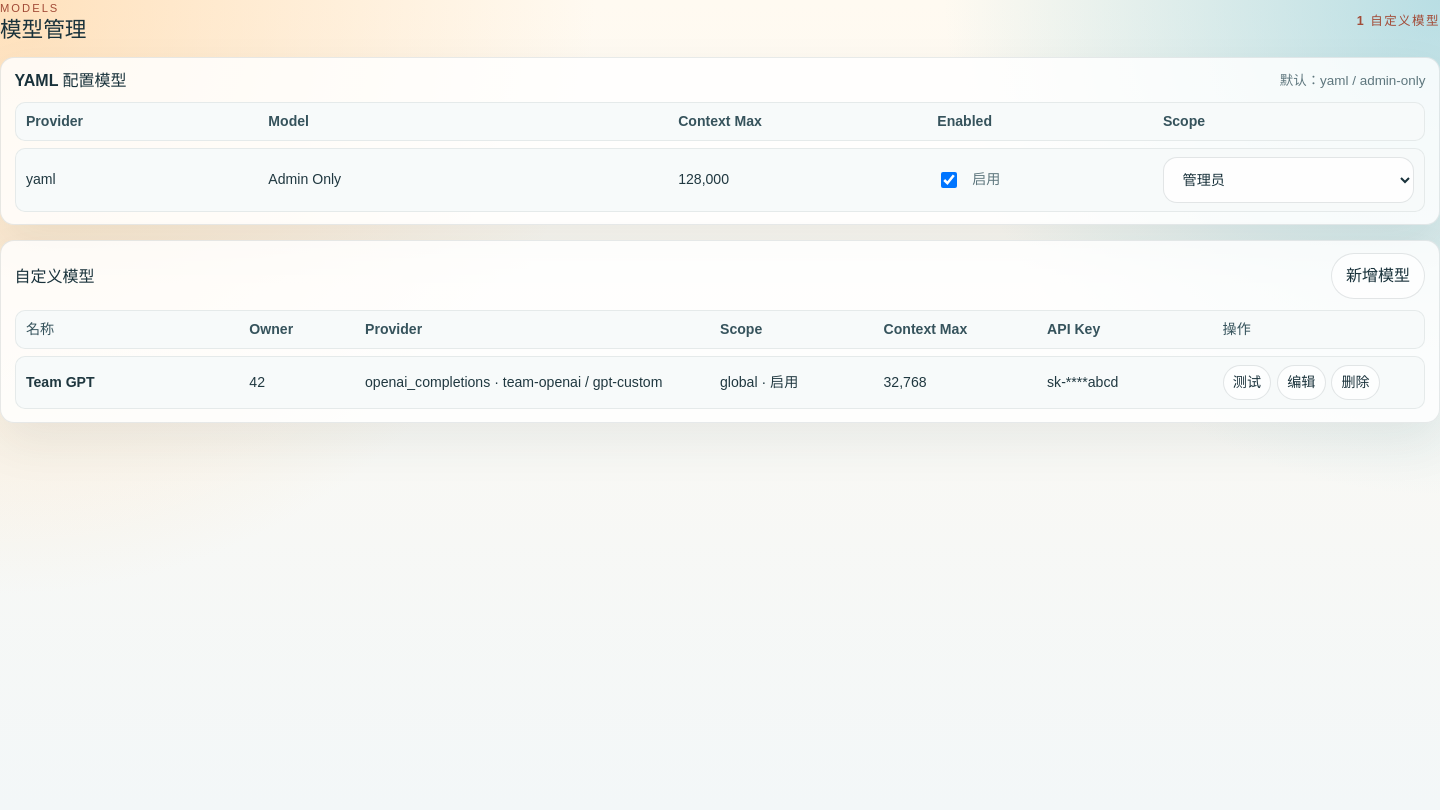
Test: AdminModelsView › rejects invalid owner user id instead of sending owner zero
Click the button "编辑" at (1301, 383), box top-left (1277, 365), bottom-right (1326, 400)
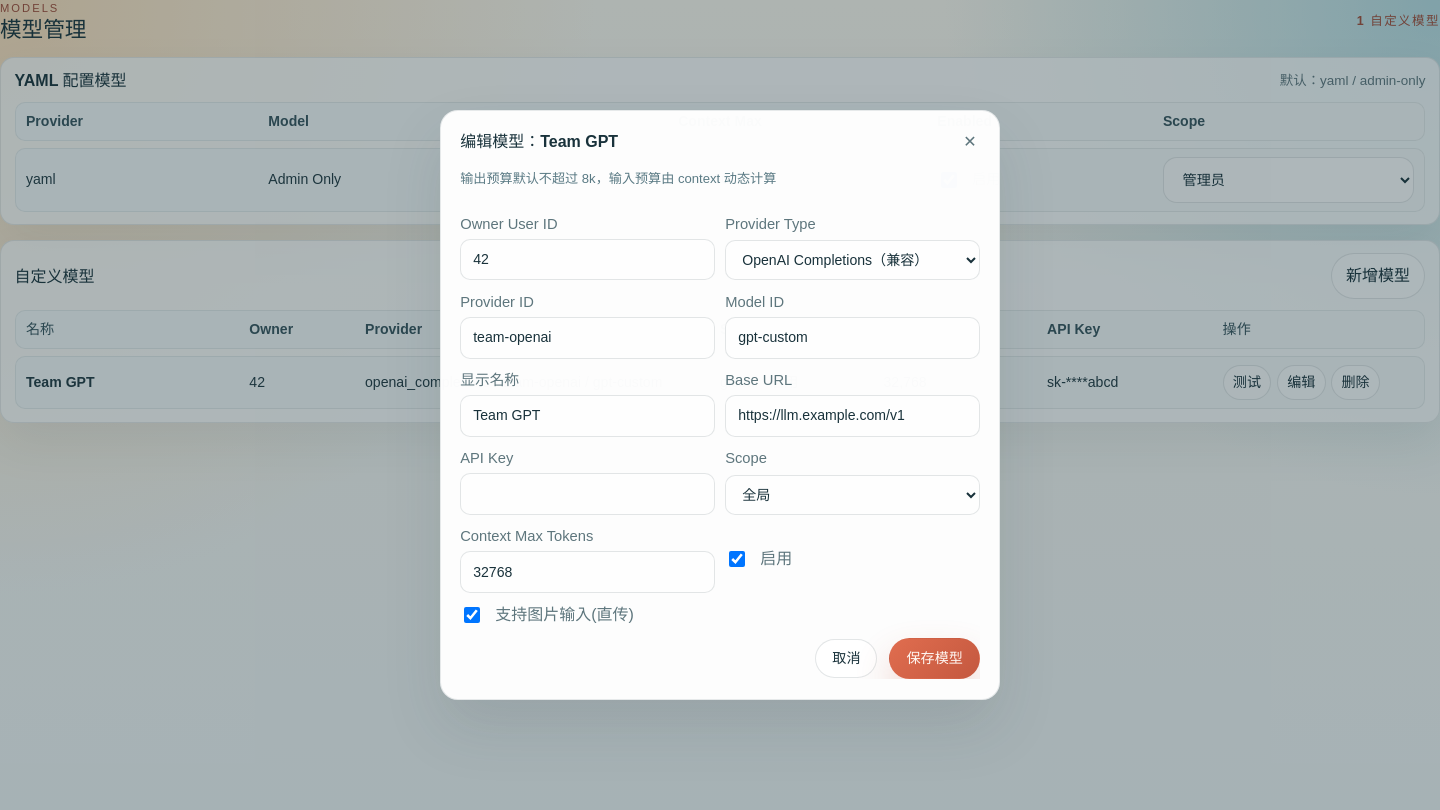
Replace the text in the field labelled "Owner User ID" with "not-a-user" at (588, 260), box top-left (460, 239), bottom-right (715, 280)
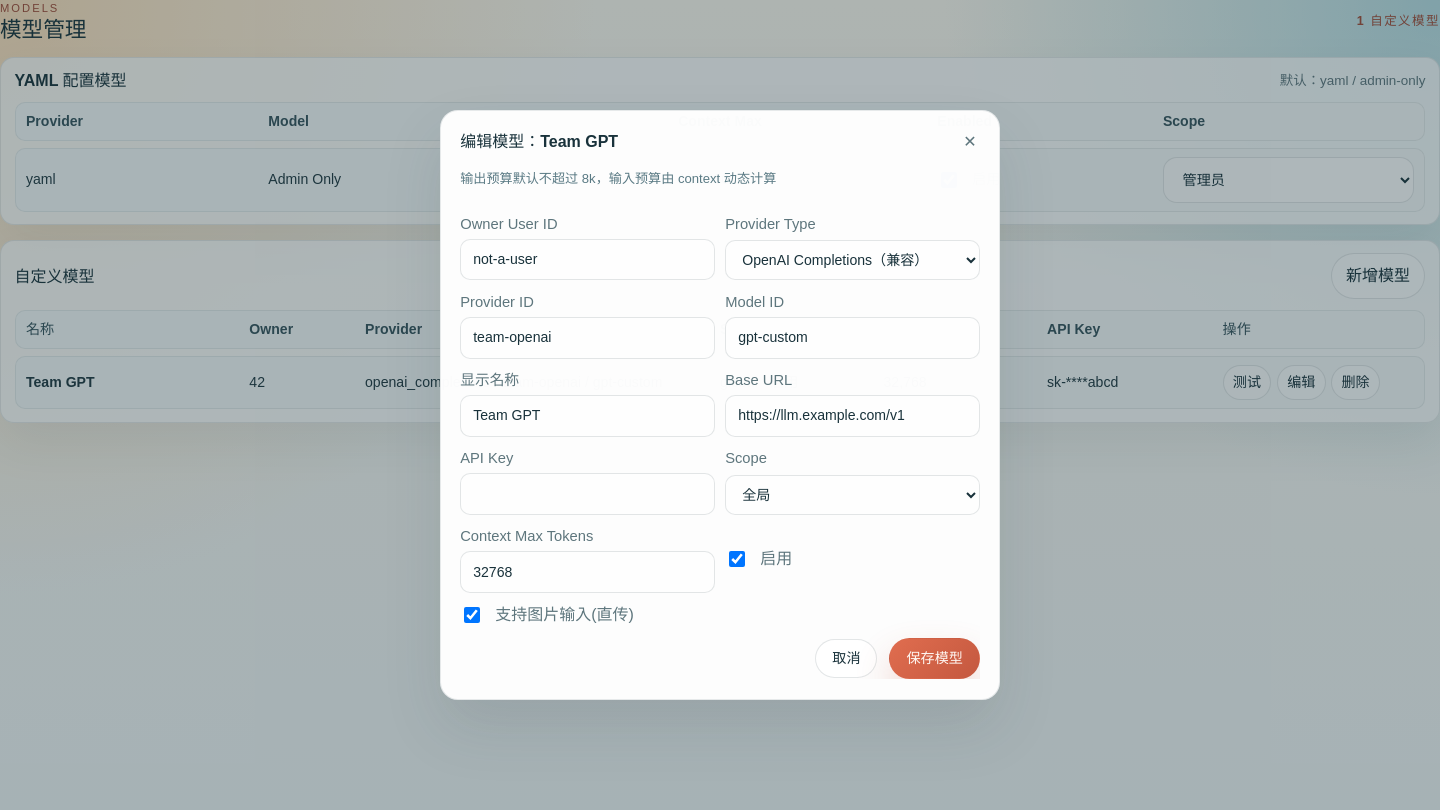
Submit the form, box top-left (460, 213), bottom-right (980, 679)
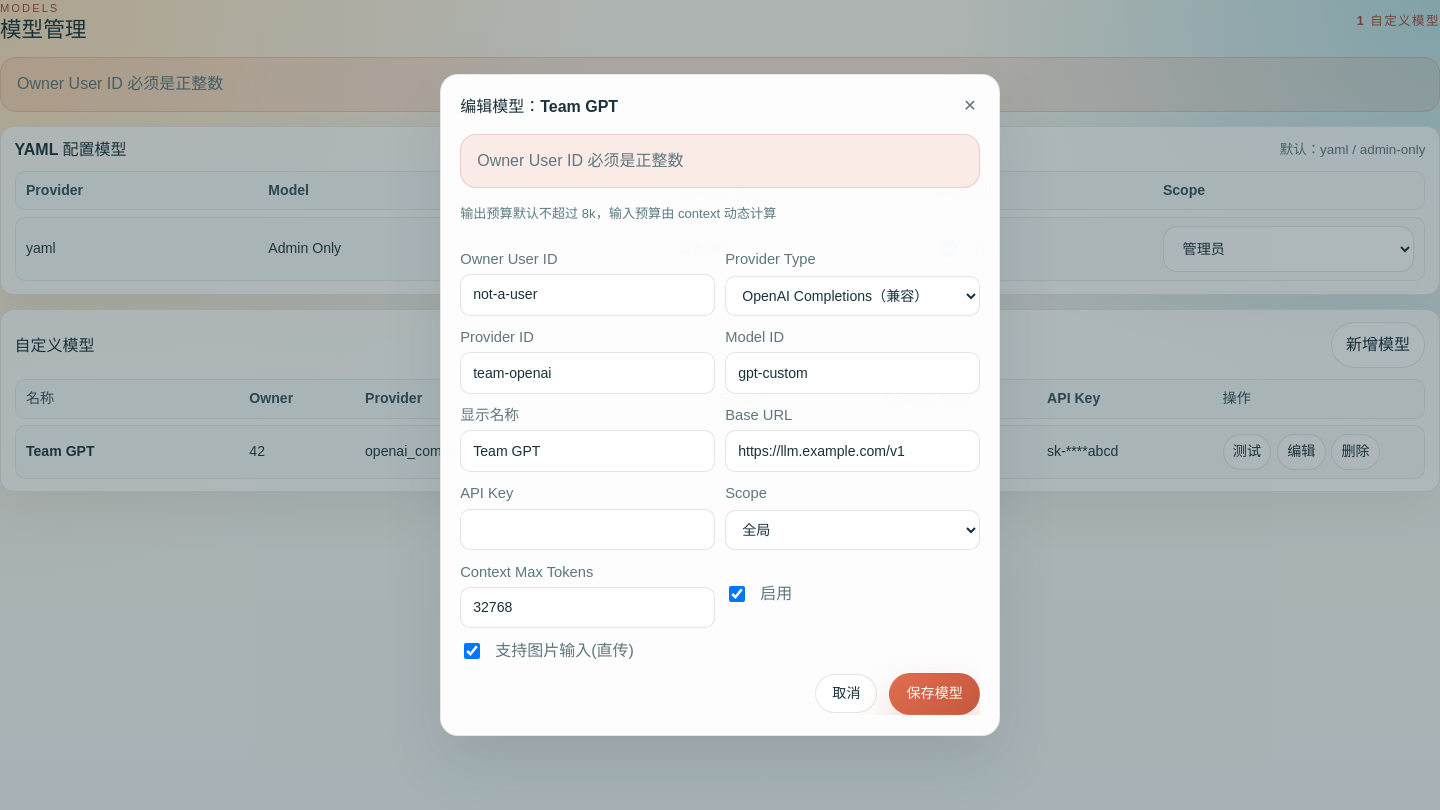
Expected: the text "Owner User ID 必须是正整数" is shown, top-left (0, 57), bottom-right (1439, 112)
